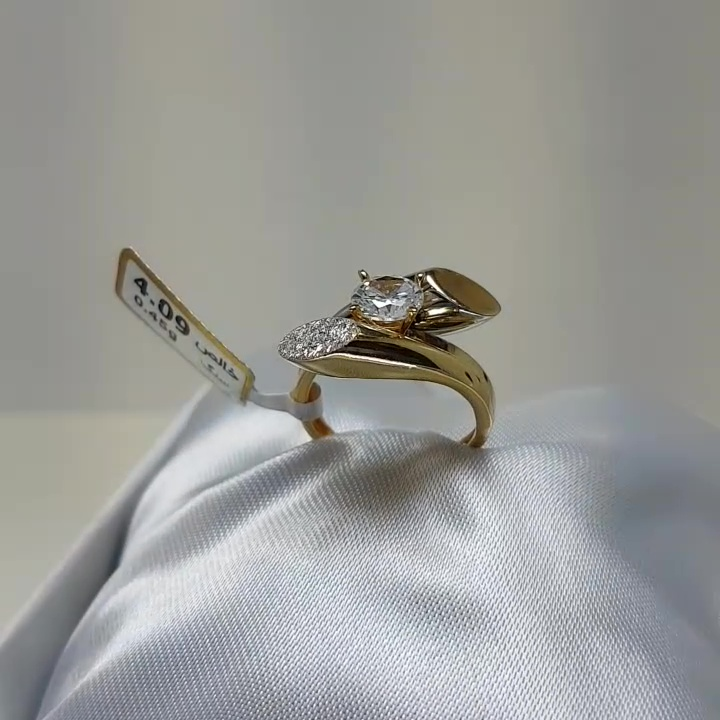Ring 7: (256, 244, 514, 465)
